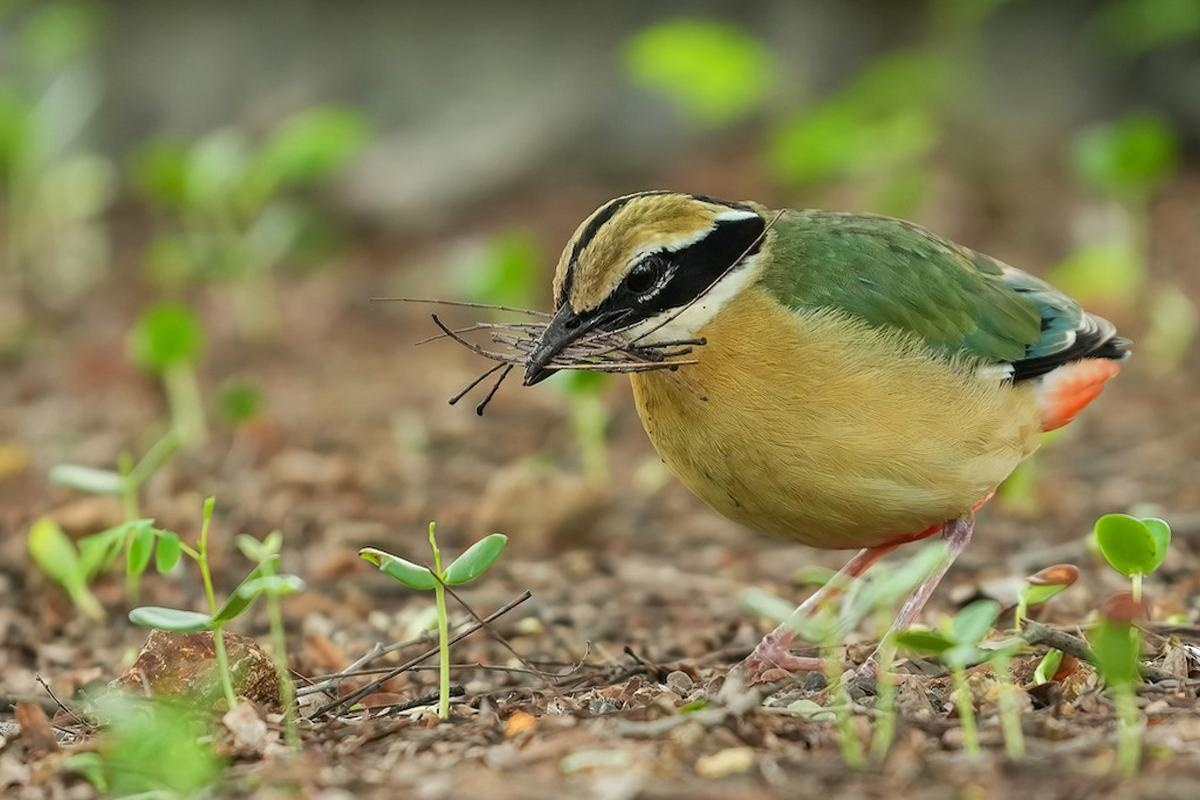pitta: (484, 125, 1078, 667)
